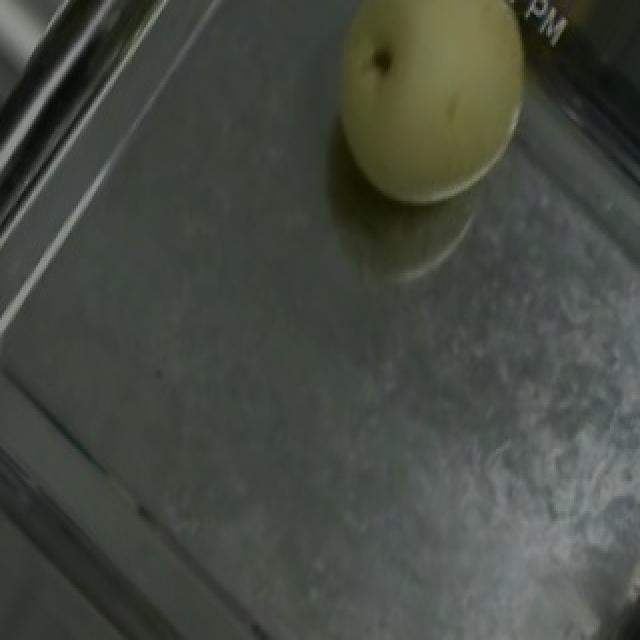Fruit: (290, 0, 558, 236)
